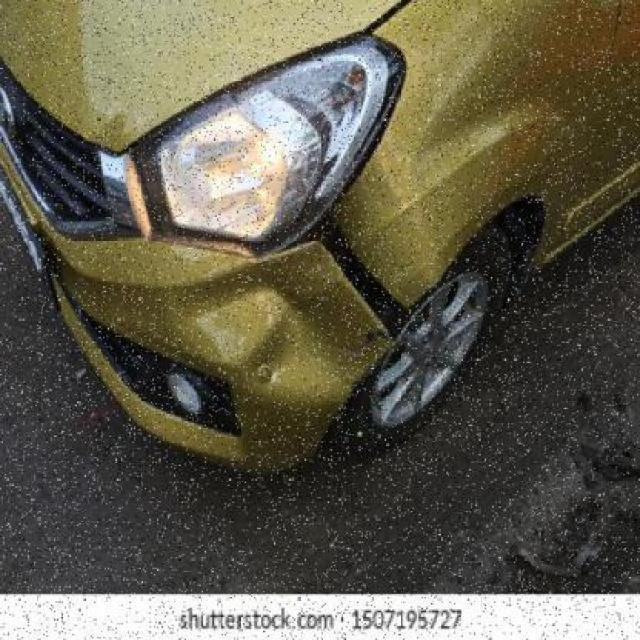front-bumper-dent: (16, 203, 440, 452)
